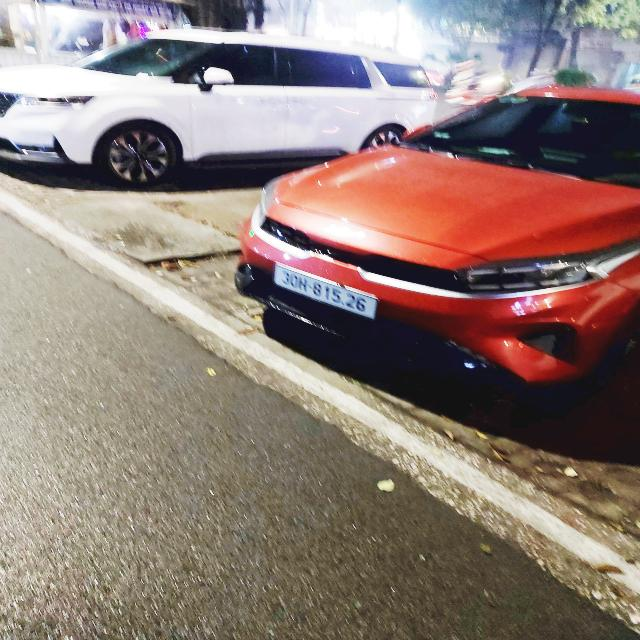license_plate: (274, 262, 380, 318)
